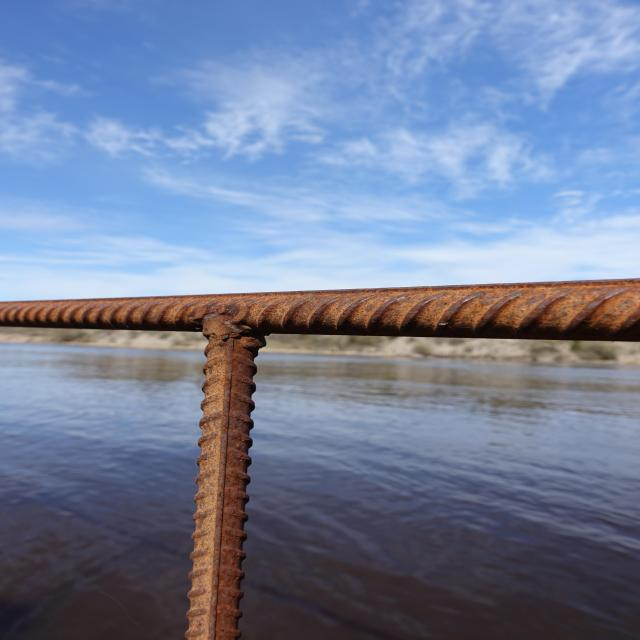non-corrosion: (0, 262, 640, 640)
